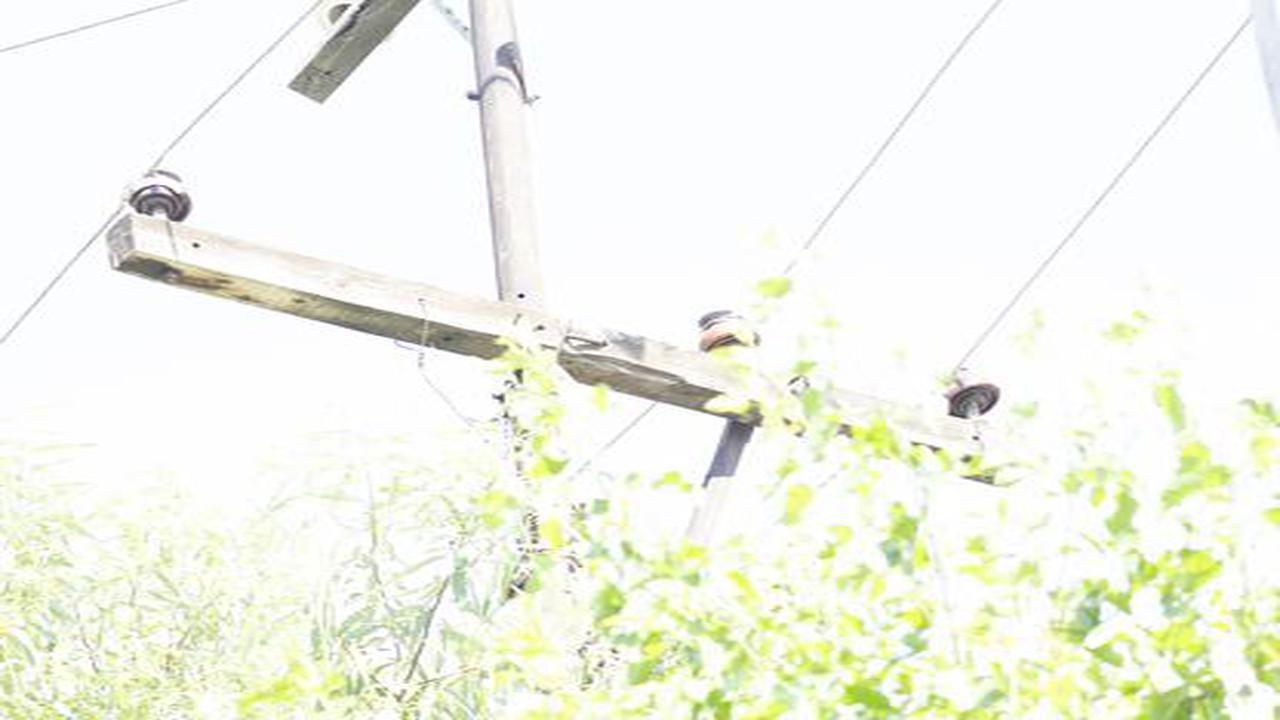defect_pin: (118, 163, 198, 226)
insulator_pin: (940, 365, 1002, 427), (696, 304, 764, 357)
